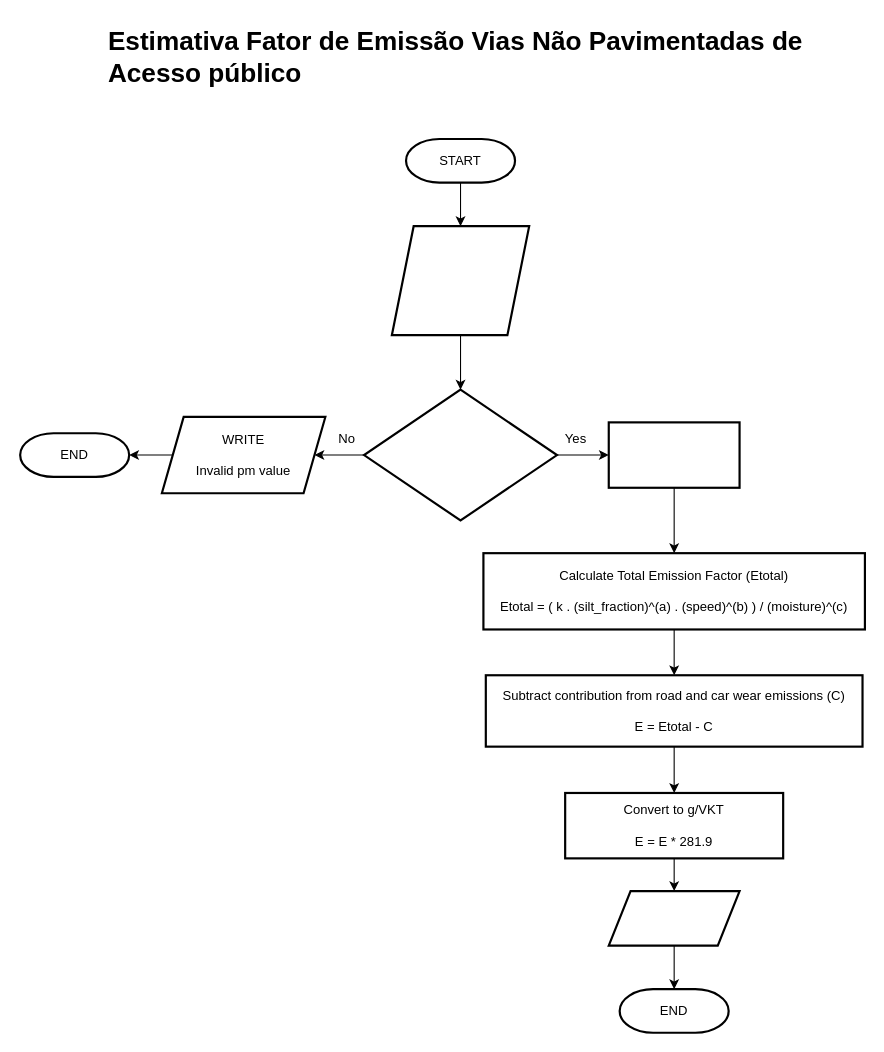
The diagram is 884 pixels wide and 1052 high, and some of its shapes have lost their labels. The centre of each missing label's shape, as x and y in pixels:
"READ pm, silt_fraction, speed, moisture" goes at point 460,280.
"RETURN E" goes at point 673,917.
"Store corresponding K, a, b, c and C values" goes at point 673,454.
"Valid pm value? (2.5, 10 ou 30)" goes at point 460,454.
